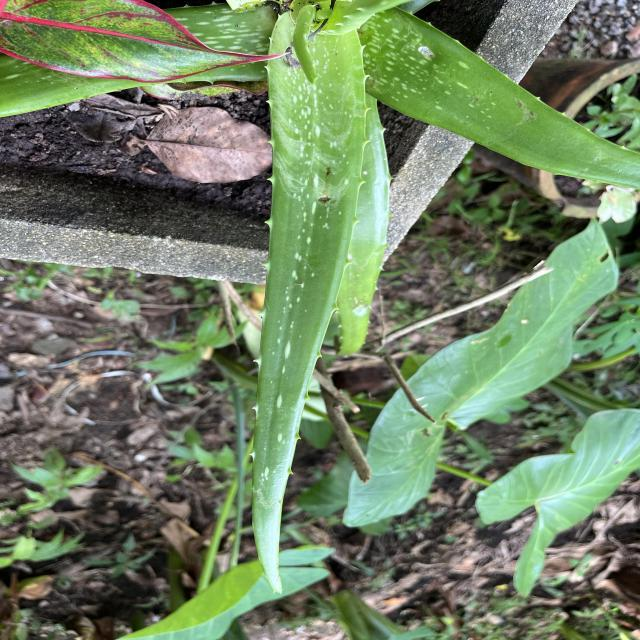Aloe vera: (242, 26, 377, 598)
